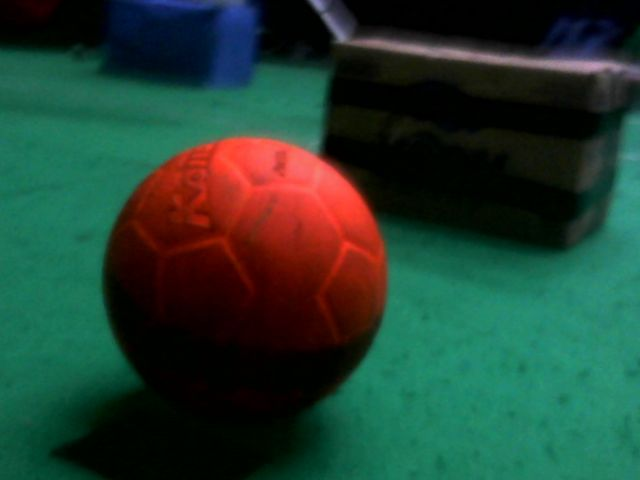ball: (90, 134, 396, 424)
